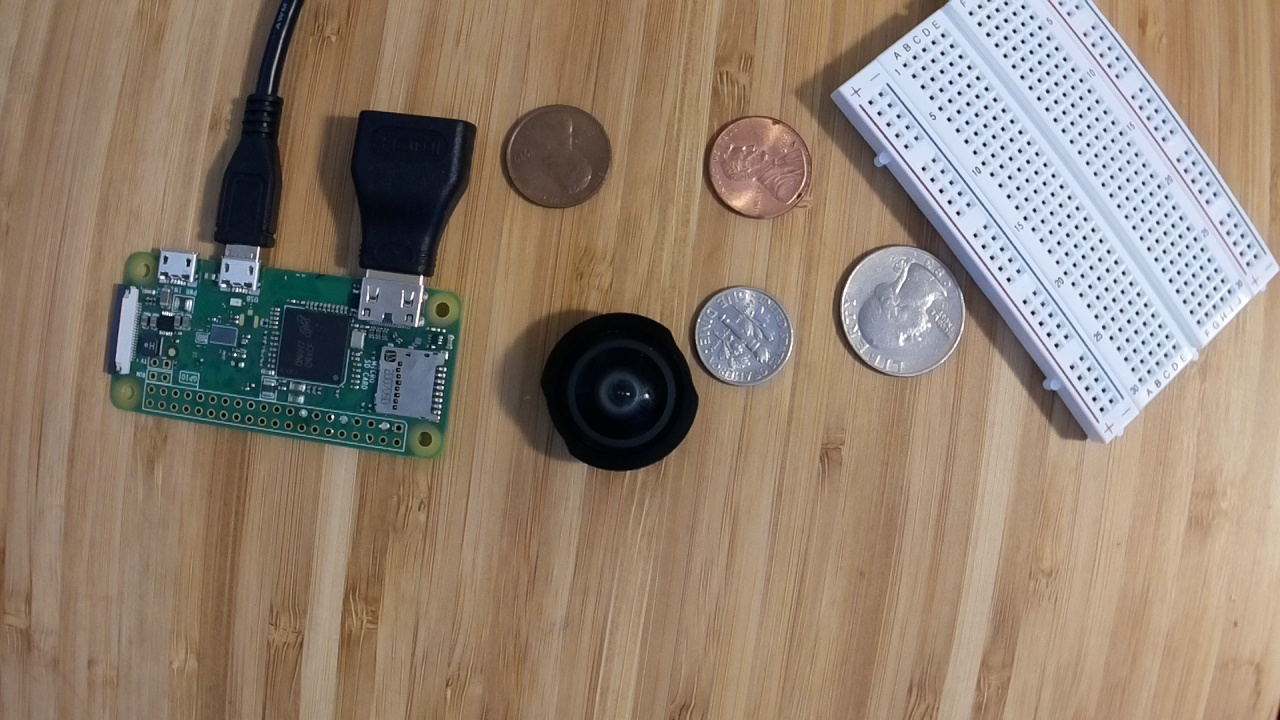dime: (690, 283, 794, 387)
penny: (502, 101, 612, 209), (704, 114, 812, 218)
quarter: (832, 238, 972, 382)
